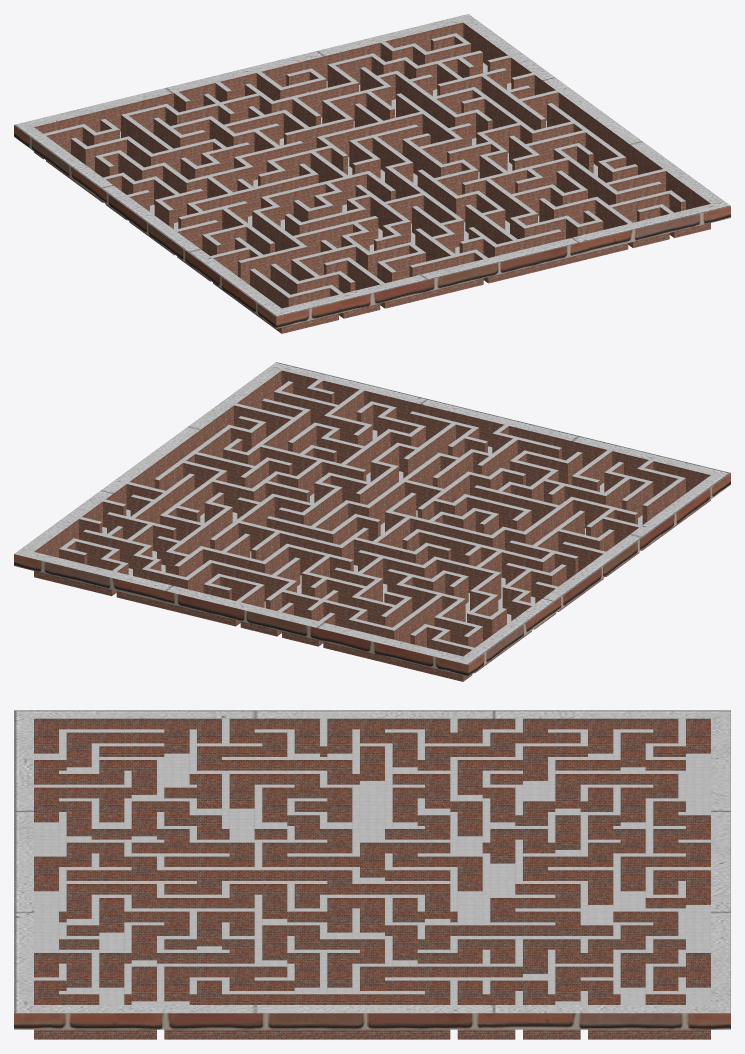
Rendered from mazeDucky3D.fbx.
The picture shows the model from 3 angles, top to bottom: view 1: azimuth 30°, elevation 25°; view 2: azimuth 150°, elevation 25°; view 3: azimuth 270°, elevation 25°; orthographic projection. The views are drawn at different scales.
Visible parts, largest first — view 1: Plane; view 2: Plane; view 3: Plane.
Boxes of the visible parts, bbox=[...] form: Plane: bbox=[14, 14, 730, 333]; Plane: bbox=[14, 362, 730, 681]; Plane: bbox=[14, 710, 730, 1039].
Bounding box in the file's own units: 1576 × 84.27 × 1576.
